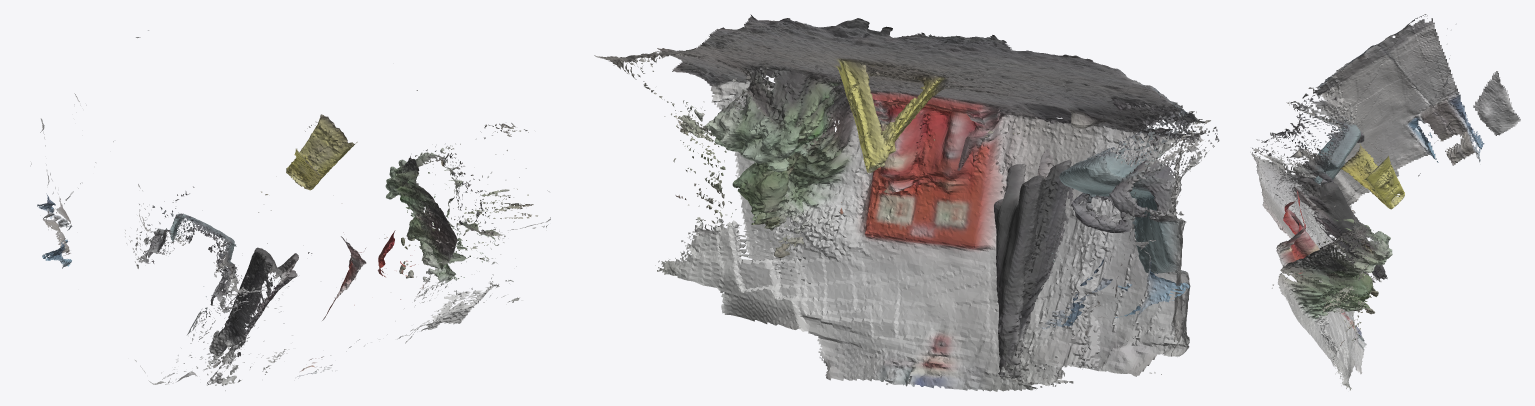
File: 7scenes_file_agent1.glb
3 views of the same model, side by side, from view 1: azimuth 30°, elevation 25°; view 2: azimuth 150°, elevation 25°; view 3: azimuth 270°, elevation 25° (orthographic). The views are drawn at different scales.
Visible parts, largest first — view 1: world; view 2: world; view 3: world.
Boxes of the visible parts, <box> form: world: <box>30,30,550,390</box>; world: <box>594,14,1219,391</box>; world: <box>1250,14,1520,390</box>.
Bounding box in the file's own units: 4.3 × 2.99 × 2.65.
